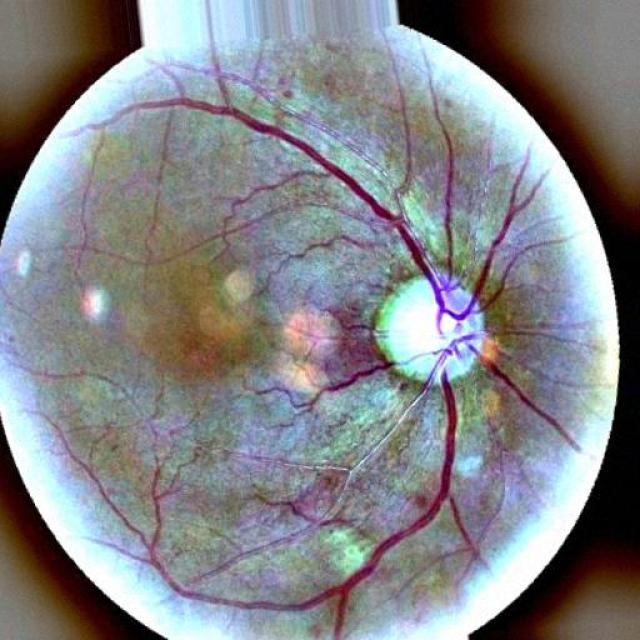Macula: (159, 318, 230, 378)
Nerves: (140, 96, 579, 639), (289, 231, 390, 256)
Optic Disk: (374, 276, 494, 386)
